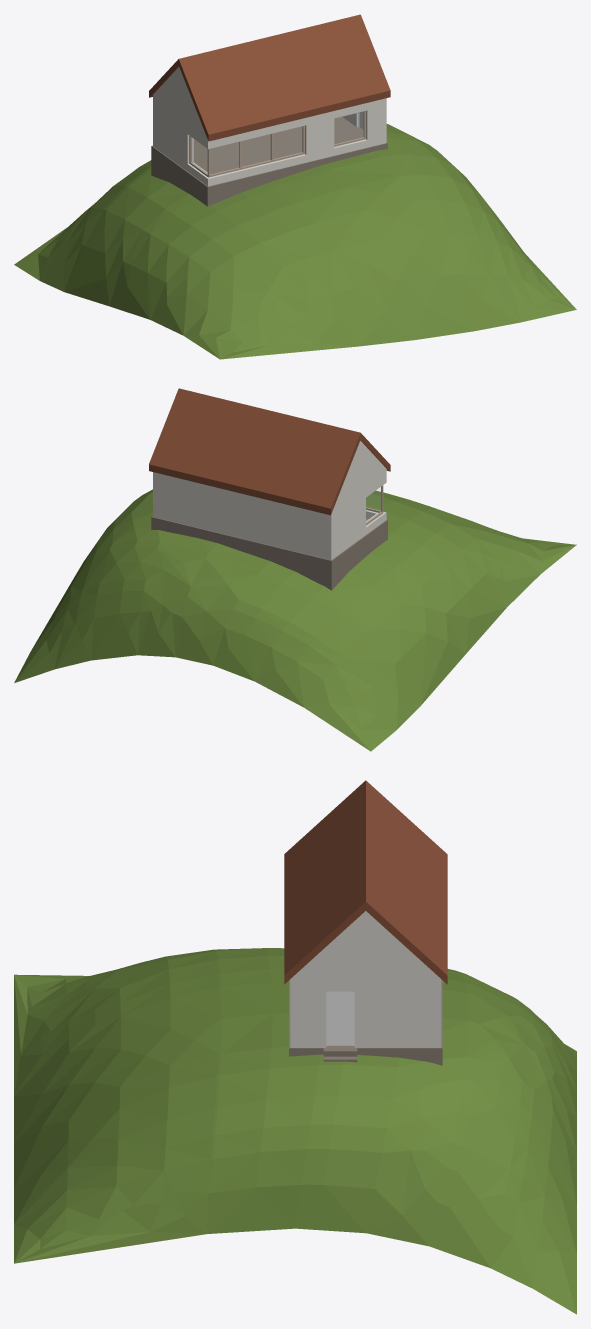
3 views of the same model, one above another, from view 1: azimuth 30°, elevation 25°; view 2: azimuth 150°, elevation 25°; view 3: azimuth 270°, elevation 25° (orthographic). The views are drawn at different scales.
Parts seen in each view (by area): view 1: 3bqf5ZY_nDpfb1hfmOkxFk, 2KoBar2pfAWBou8q$ldGHy, 2W4bl$KK1Brv_UEOkAThqU, 3g46_woBL6sugXeY5_WP6n, 1hwEPyGUD1vwPpm508N9dQ; view 2: 3bqf5ZY_nDpfb1hfmOkxFk, 3lPsczHcDCwepFiJhZqz9q, 3xUPAVO39FGgNkCUQqf4JV, 2W4bl$KK1Brv_UEOkAThqU, 1hwEPyGUD1vwPpm508N9dQ; view 3: 3bqf5ZY_nDpfb1hfmOkxFk, 3hw7qrktPAl8j6w3qKhwKm, 3lPsczHcDCwepFiJhZqz9q, 2KoBar2pfAWBou8q$ldGHy, 2W4bl$KK1Brv_UEOkAThqU, 0Tif_$wI1FwAwq$OJt24I8, 3xUPAVO39FGgNkCUQqf4JV.
Boxes of the visible parts, x1=… form: 3bqf5ZY_nDpfb1hfmOkxFk: x1=14, y1=124, x2=576, y2=359; 2KoBar2pfAWBou8q$ldGHy: x1=178, y1=14, x2=390, y2=141; 2W4bl$KK1Brv_UEOkAThqU: x1=151, y1=117, x2=387, y2=206; 3g46_woBL6sugXeY5_WP6n: x1=204, y1=98, x2=386, y2=186; 1hwEPyGUD1vwPpm508N9dQ: x1=156, y1=67, x2=207, y2=183; 3bqf5ZY_nDpfb1hfmOkxFk: x1=14, y1=489, x2=576, y2=751; 3lPsczHcDCwepFiJhZqz9q: x1=149, y1=388, x2=360, y2=515; 3xUPAVO39FGgNkCUQqf4JV: x1=153, y1=472, x2=334, y2=560; 2W4bl$KK1Brv_UEOkAThqU: x1=151, y1=516, x2=387, y2=590; 1hwEPyGUD1vwPpm508N9dQ: x1=335, y1=441, x2=384, y2=557; 3bqf5ZY_nDpfb1hfmOkxFk: x1=14, y1=948, x2=576, y2=1314; 3hw7qrktPAl8j6w3qKhwKm: x1=295, y1=911, x2=436, y2=1047; 3lPsczHcDCwepFiJhZqz9q: x1=366, y1=780, x2=447, y2=984; 2KoBar2pfAWBou8q$ldGHy: x1=284, y1=780, x2=365, y2=984; 2W4bl$KK1Brv_UEOkAThqU: x1=289, y1=979, x2=442, y2=1065; 0Tif_$wI1FwAwq$OJt24I8: x1=326, y1=991, x2=354, y2=1045; 3xUPAVO39FGgNkCUQqf4JV: x1=431, y1=971, x2=441, y2=1047.
Bounding box in the file's own units: 20 × 13.91 × 20.
